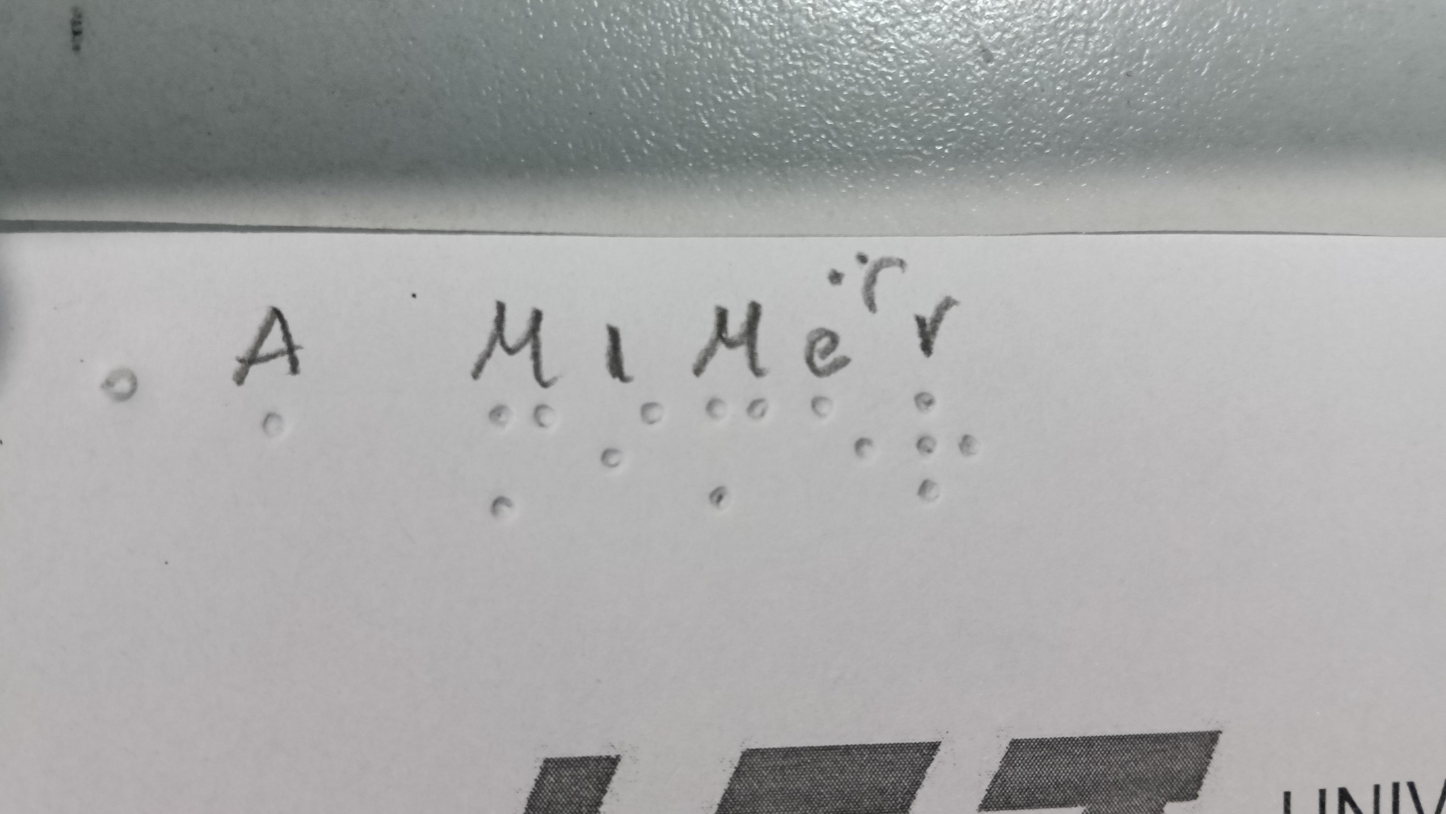a: (230, 399, 319, 457)
e: (789, 381, 890, 482)
i: (590, 392, 680, 493)
m: (477, 386, 569, 530), (689, 381, 774, 521)
r: (898, 381, 985, 507)
